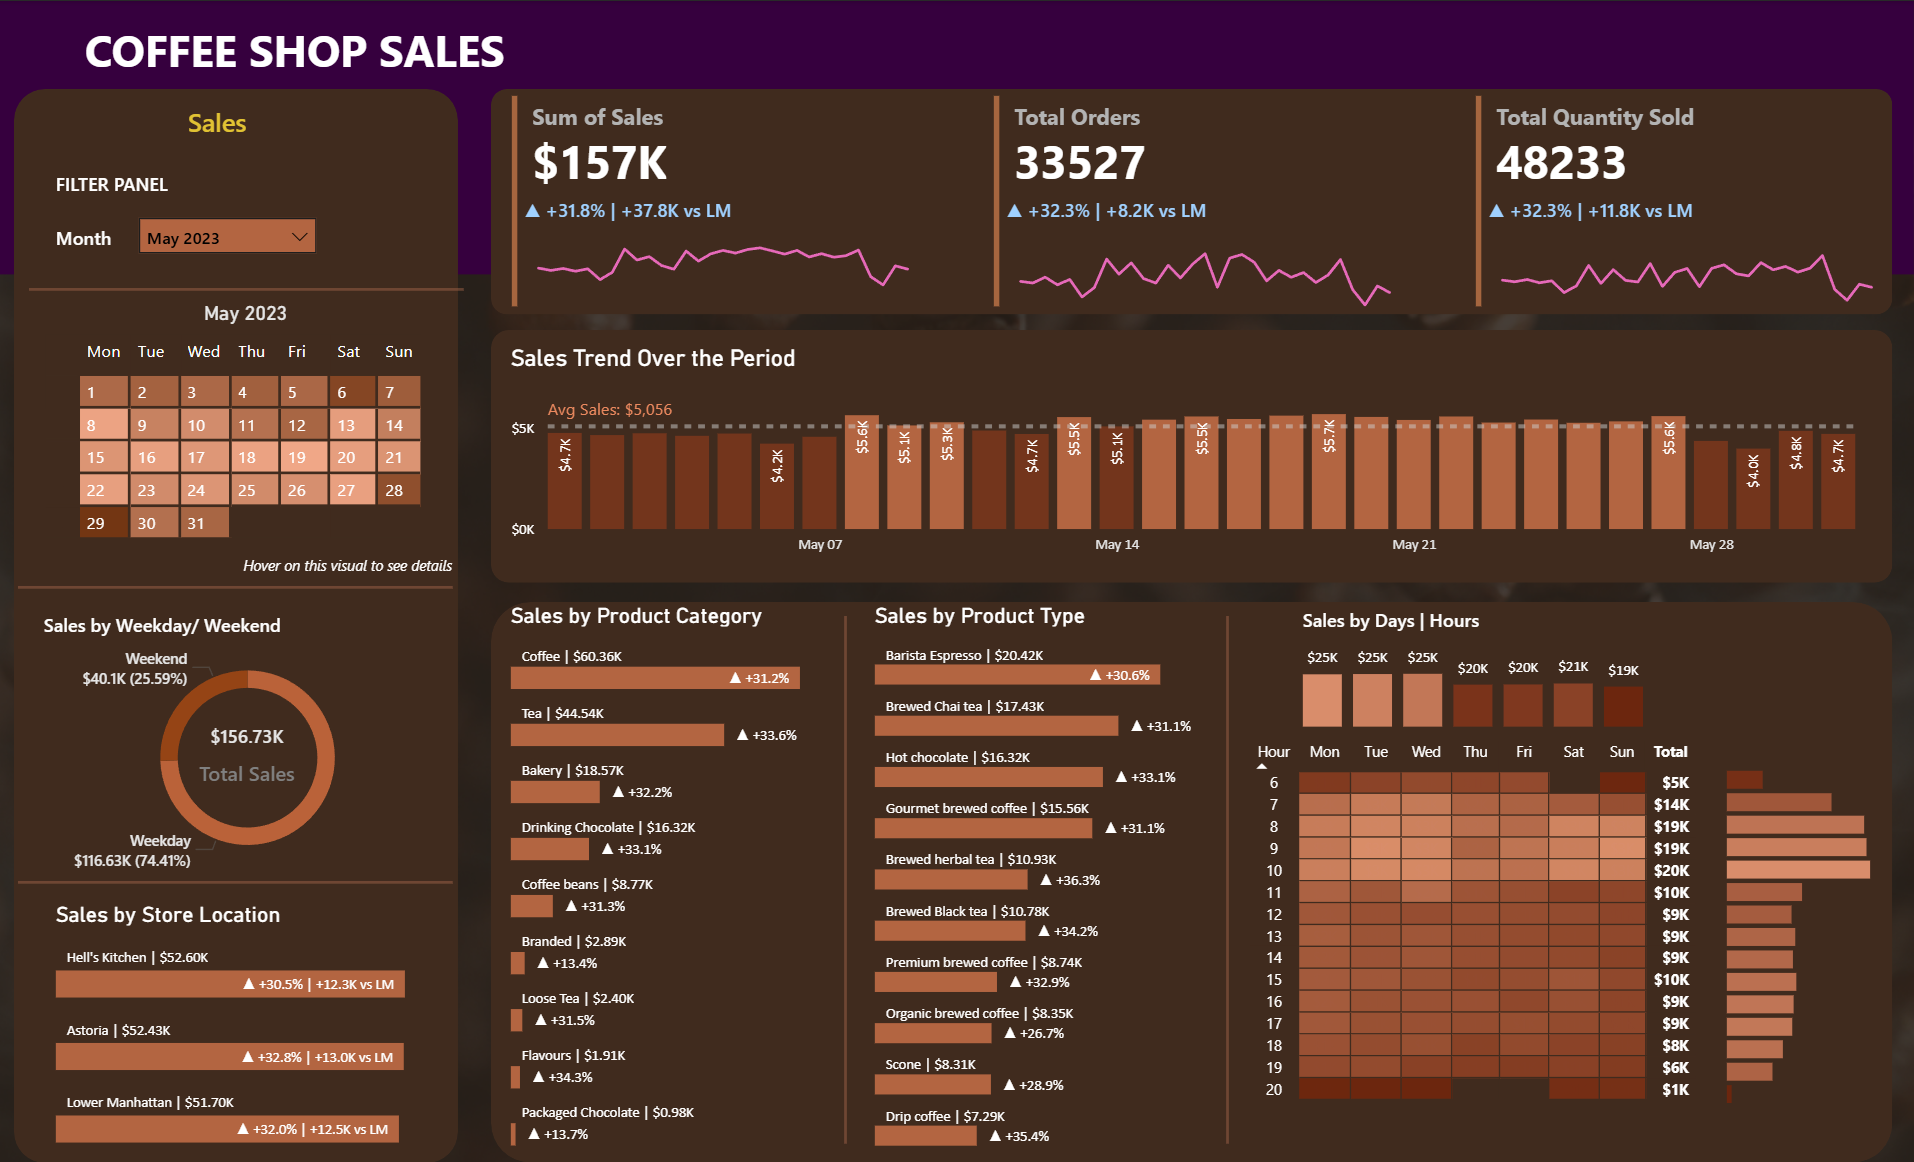

The dashboard page shown, as its layout file describes it:
{"tool":"powerbi","page":{"name":"Coffee Shop Sales Report","canvas":[1400,850],"ordinal":0},"visuals":[{"type":"shape","box":[0,0,1400,200],"z":0},{"type":"shape","box":[10.5,64.4,324.7,785.7],"z":1000},{"type":"shape","box":[358.9,64.7,1025.1,164.9],"z":2000},{"type":"textbox","box":[57.4,8,328.4,56.7],"z":3000},{"type":"cardVisual","fields":{"Data":["Sum(Transactions.Sales)"]},"box":[369.1,64.7,300,164.9],"z":4000,"group":"g1"},{"type":"cardVisual","fields":{"Data":["Transactions.Total Orders"]},"box":[721.8,64.7,300,164.9],"z":4000,"group":"g2"},{"type":"cardVisual","fields":{"Data":["Transactions.Total Quantity Sold"]},"box":[1074.5,64.7,300,164.9],"z":4000,"group":"g3"},{"type":"slicer","fields":{"Values":["Date Table.Month Year"]},"box":[96.5,153.4,139.9,39.7],"z":4000},{"type":"group","id":"g1","title":"Group 1","box":[369.1,64.7,309.5,164.9],"z":5000},{"type":"group","id":"g2","title":"Group 1","box":[721.8,64.7,309.5,164.9],"z":6000},{"type":"lineChart","fields":{"Y":["Transactions.Total Sales"],"Category":["Date Table.Date.Variation.Date Hierarchy.Year","Date Table.Date.Variation.Date Hierarchy.Quarter","Date Table.Date.Variation.Date Hierarchy.Month","Date Table.Date.Variation.Date Hierarchy.Day"]},"box":[378.5,144.6,300,85],"z":6000,"group":"g1"},{"type":"lineChart","fields":{"Category":["Date Table.Date.Variation.Date Hierarchy.Year","Date Table.Date.Variation.Date Hierarchy.Quarter","Date Table.Date.Variation.Date Hierarchy.Month","Date Table.Date.Variation.Date Hierarchy.Day"],"Y":["Transactions.Total Orders"]},"box":[731.2,144.6,300,85],"z":6000,"group":"g2"},{"type":"lineChart","fields":{"Category":["Date Table.Date.Variation.Date Hierarchy.Year","Date Table.Date.Variation.Date Hierarchy.Quarter","Date Table.Date.Variation.Date Hierarchy.Month","Date Table.Date.Variation.Date Hierarchy.Day"],"Y":["Transactions.Total Quantity Sold"]},"box":[1083.9,144.6,300,85],"z":6000,"group":"g3"},{"type":"group","id":"g3","title":"Group 1","box":[1074.5,64.7,309.5,164.9],"z":7000},{"type":"pivotTable","fields":{"Rows":["Date Table.Week Number"],"Columns":["Date Table.Day Name"],"Values":["Min(Date Table.Day Number)"]},"box":[28.3,239,305,190],"z":8000},{"type":"card","fields":{"Values":["Min(Date Table.Month Year)"]},"box":[137.3,211.4,84.3,35.6],"z":9000},{"type":"card","fields":{"Values":["Transactions.Foot Note"]},"box":[166.4,401,176.5,24],"z":10000},{"type":"shape","box":[13.5,417.5,318,22.4],"z":11000},{"type":"shape","box":[21.1,199.8,318.2,22.5],"z":12000},{"type":"donutChart","title":"Sales by Weekday/ Weekend","fields":{"Category":["Date Table.Weekday/ Weekend"],"Y":["Transactions.Total Sales"]},"box":[26.9,447.5,308,194.7],"z":13000},{"type":"card","fields":{"Values":["Transactions.Total Sales"]},"box":[125,523.1,111.2,53.8],"z":14000},{"type":"shape","box":[13.5,633.8,318,22.4],"z":15000},{"type":"clusteredBarChart","title":"Sales by Store Location","fields":{"Category":["Transactions.store_location"],"Y":["Transactions.Placeholder","Transactions.Total Sales"]},"box":[35.6,658.2,290.6,184.5],"z":16000},{"type":"shape","box":[359.2,240.9,1025.1,184.8],"z":17000},{"type":"columnChart","title":"Sales Trend Over the Period","fields":{"Category":["Transactions.transaction_date"],"Y":["Transactions.Total Sales"]},"box":[368.9,250.7,997.4,162.4],"z":18000},{"type":"shape","box":[359.2,440,1025.1,410],"z":19000},{"type":"clusteredBarChart","title":"Sales by Product Category","fields":{"Category":["Transactions.product_category"],"Y":["Transactions.Placeholder","Transactions.Total Sales"]},"box":[368.9,440,249.9,403.3],"z":20000},{"type":"shape","box":[602.4,449.7,32.9,386.1],"z":21000},{"type":"clusteredBarChart","title":"Sales by Product Type","fields":{"Y":["Transactions.Placeholder","Transactions.Total Sales"],"Category":["Transactions.product_type"]},"box":[635.3,440,249.9,403.3],"z":22000},{"type":"shape","box":[881.5,449.7,32.9,386.1],"z":23000},{"type":"pivotTable","fields":{"Rows":["Transactions.Hour"],"Values":["Transactions.Total Sales"],"Columns":["Date Table.Day Name"]},"box":[909.1,536.5,369.6,308.3],"z":24000},{"type":"barChart","fields":{"Category":["Transactions.Hour"],"Y":["Transactions.Total Sales"]},"box":[1257.8,550,116.7,261.1],"z":25000},{"type":"columnChart","title":"Sales by Days | Hours","fields":{"Y":["Transactions.Total Sales"],"Category":["Date Table.Day Name"]},"box":[948,443.7,259.6,92.8],"z":26000},{"type":"textbox","box":[35.9,159.4,60.6,27.7],"z":27000},{"type":"textbox","box":[35.9,119.7,96.5,27.7],"z":28000},{"type":"textbox","box":[132.4,71.1,77.8,38.9],"z":29000}]}

Visuals, with their boxes in screenshot pixels (x1, y1, x2, y2), scaled from the page's 1400x850 canvas onto the 1914x1162 screenshot:
shape: [x1=0, y1=0, x2=1913, y2=273]
shape: [x1=14, y1=88, x2=458, y2=1161]
shape: [x1=491, y1=88, x2=1892, y2=314]
textbox: [x1=78, y1=11, x2=527, y2=88]
cardVisual - Sum(Transactions.Sales): [x1=505, y1=88, x2=915, y2=314]
cardVisual - Transactions.Total Orders: [x1=987, y1=88, x2=1397, y2=314]
cardVisual - Transactions.Total Quantity Sold: [x1=1469, y1=88, x2=1879, y2=314]
slicer - Date Table.Month Year: [x1=132, y1=210, x2=323, y2=264]
"Group 1" group: [x1=505, y1=88, x2=928, y2=314]
"Group 1" group: [x1=987, y1=88, x2=1410, y2=314]
lineChart - Transactions.Total Sales x Date Table.Date.Variation.Date Hierarchy.Year: [x1=517, y1=198, x2=928, y2=314]
lineChart - Date Table.Date.Variation.Date Hierarchy.Year x Date Table.Date.Variation.Date Hierarchy.Quarter: [x1=1000, y1=198, x2=1410, y2=314]
lineChart - Date Table.Date.Variation.Date Hierarchy.Year x Date Table.Date.Variation.Date Hierarchy.Quarter: [x1=1482, y1=198, x2=1892, y2=314]
"Group 1" group: [x1=1469, y1=88, x2=1892, y2=314]
pivotTable - Date Table.Week Number x Date Table.Day Name: [x1=39, y1=327, x2=456, y2=586]
card - Min(Date Table.Month Year): [x1=188, y1=289, x2=303, y2=338]
card - Transactions.Foot Note: [x1=227, y1=548, x2=469, y2=581]
shape: [x1=18, y1=571, x2=453, y2=601]
shape: [x1=29, y1=273, x2=464, y2=304]
"Sales by Weekday/ Weekend" donutChart: [x1=37, y1=612, x2=458, y2=878]
card - Transactions.Total Sales: [x1=171, y1=715, x2=323, y2=789]
shape: [x1=18, y1=866, x2=453, y2=897]
"Sales by Store Location" clusteredBarChart: [x1=49, y1=900, x2=446, y2=1152]
shape: [x1=491, y1=329, x2=1893, y2=582]
"Sales Trend Over the Period" columnChart: [x1=504, y1=343, x2=1868, y2=565]
shape: [x1=491, y1=602, x2=1893, y2=1161]
"Sales by Product Category" clusteredBarChart: [x1=504, y1=602, x2=846, y2=1153]
shape: [x1=824, y1=615, x2=869, y2=1143]
"Sales by Product Type" clusteredBarChart: [x1=869, y1=602, x2=1210, y2=1153]
shape: [x1=1205, y1=615, x2=1250, y2=1143]
pivotTable - Transactions.Hour x Transactions.Total Sales: [x1=1243, y1=733, x2=1748, y2=1155]
barChart - Transactions.Hour x Transactions.Total Sales: [x1=1720, y1=752, x2=1879, y2=1109]
"Sales by Days | Hours" columnChart: [x1=1296, y1=607, x2=1651, y2=733]
textbox: [x1=49, y1=218, x2=132, y2=256]
textbox: [x1=49, y1=164, x2=181, y2=202]
textbox: [x1=181, y1=97, x2=287, y2=150]
